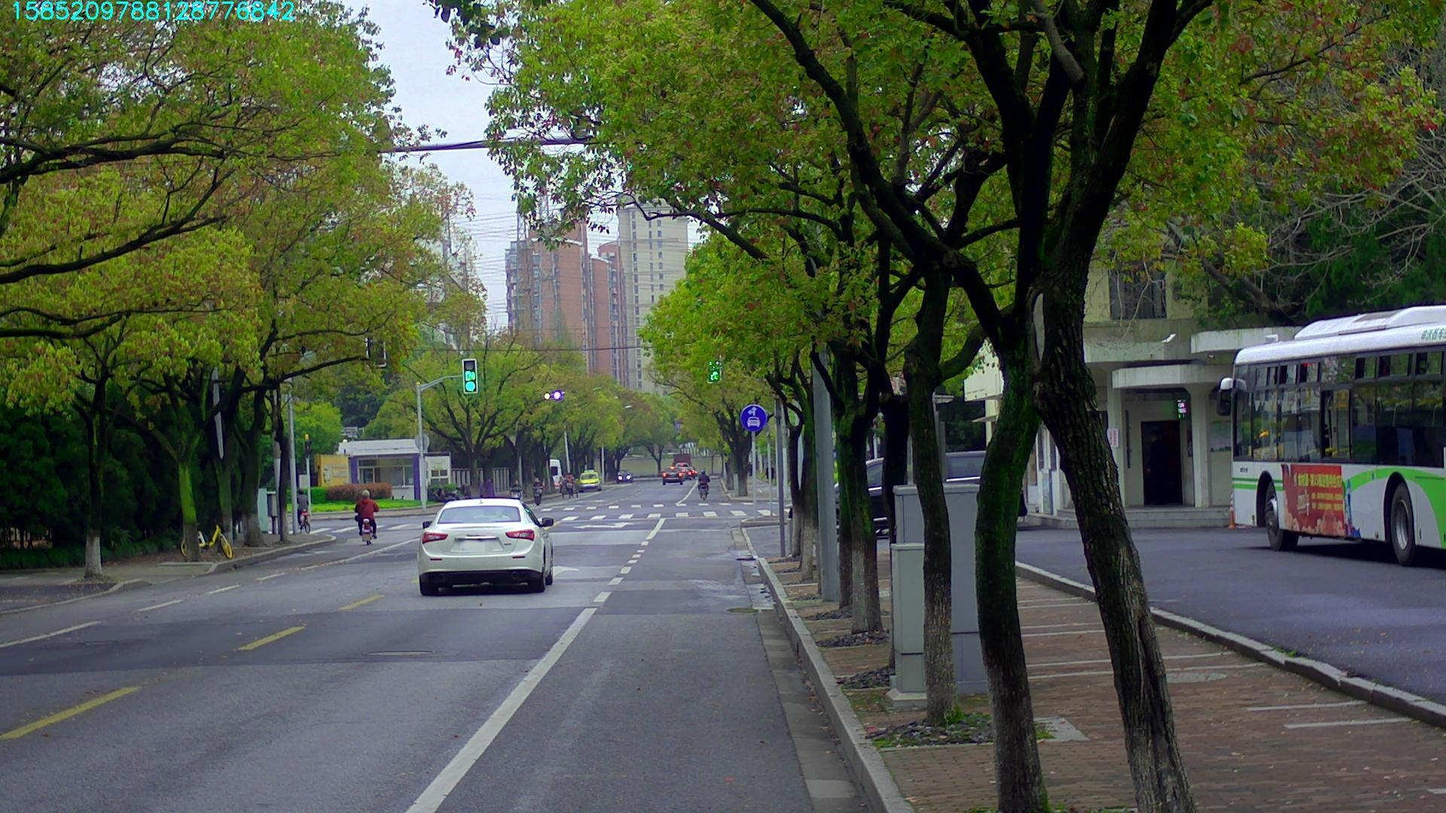green: (706, 346, 721, 382), (462, 359, 476, 392)
